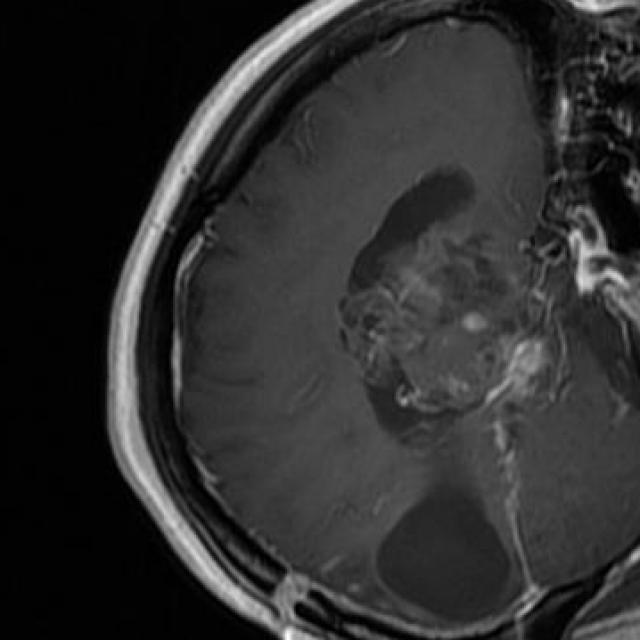glioma: (373, 487, 517, 629)
